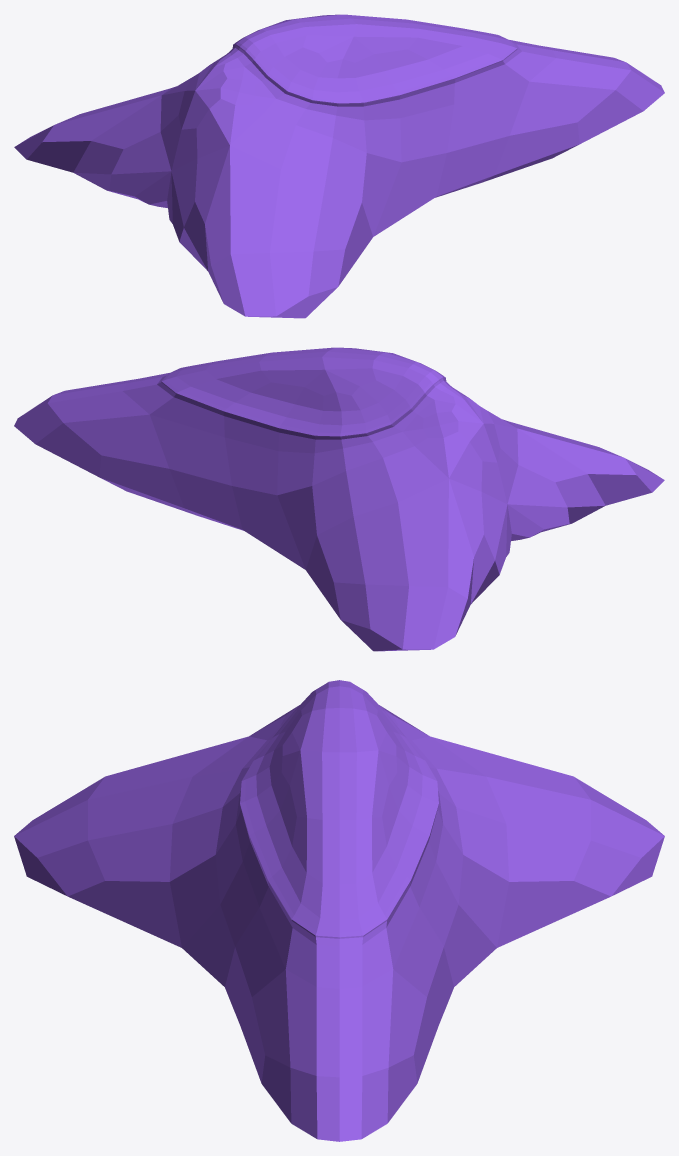
File: ship.fbx
The picture shows the model from 3 angles, top to bottom: view 1: azimuth 30°, elevation 25°; view 2: azimuth 150°, elevation 25°; view 3: azimuth 270°, elevation 25°; orthographic projection. The views are drawn at different scales.
Parts seen in each view (by area): view 1: craft; view 2: craft; view 3: craft.
Boxes of the visible parts, box(x1,y1,x2,y2) form: craft: box(14, 14, 664, 318); craft: box(14, 347, 664, 651); craft: box(14, 680, 664, 1141).
Size of the model in its own units: 617 by 201 by 490.
